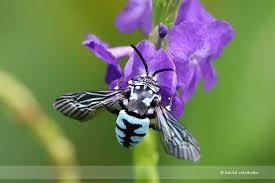Thyreus: (53, 55, 199, 158)
